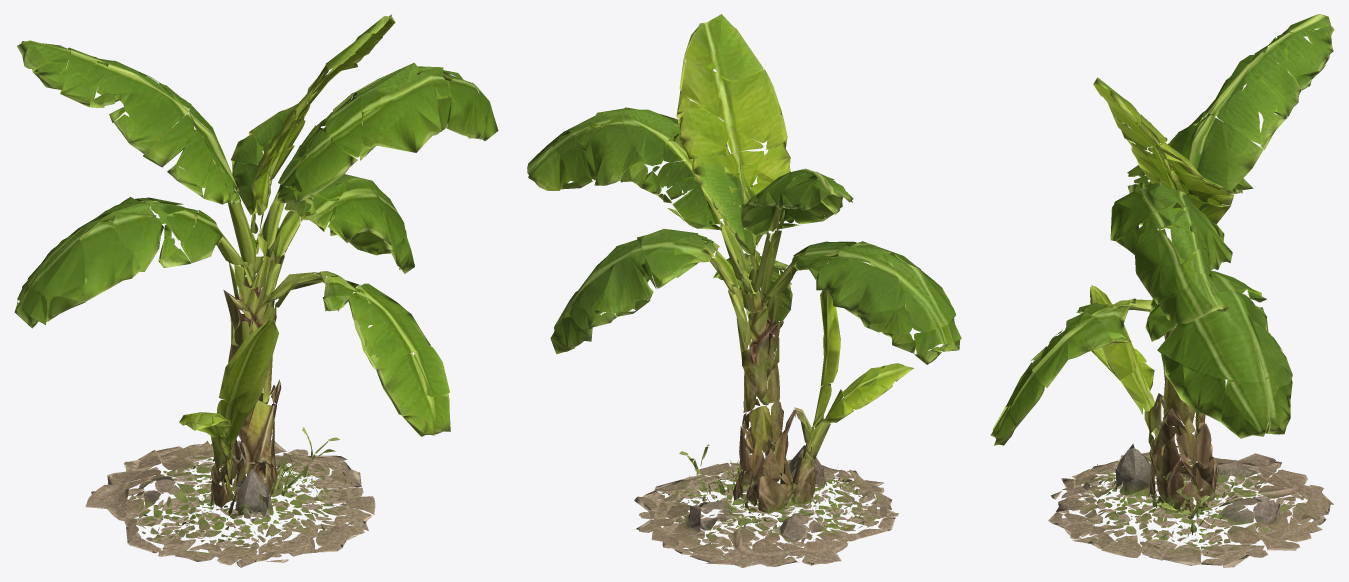
Rendered from mature.glb.
3 views of the same model, side by side, from view 1: azimuth 30°, elevation 25°; view 2: azimuth 150°, elevation 25°; view 3: azimuth 270°, elevation 25° (orthographic). The views are drawn at different scales.
Parts seen in each view (by area): view 1: mature; view 2: mature; view 3: mature.
Part boxes in pixels (x1,y1,x2,y2): mature: (14,14,498,567); mature: (527,14,961,567); mature: (990,14,1334,567).
Size of the model in its own units: 1.9 by 1.91 by 1.25.
Materials: 1 (1 with a texture image).
